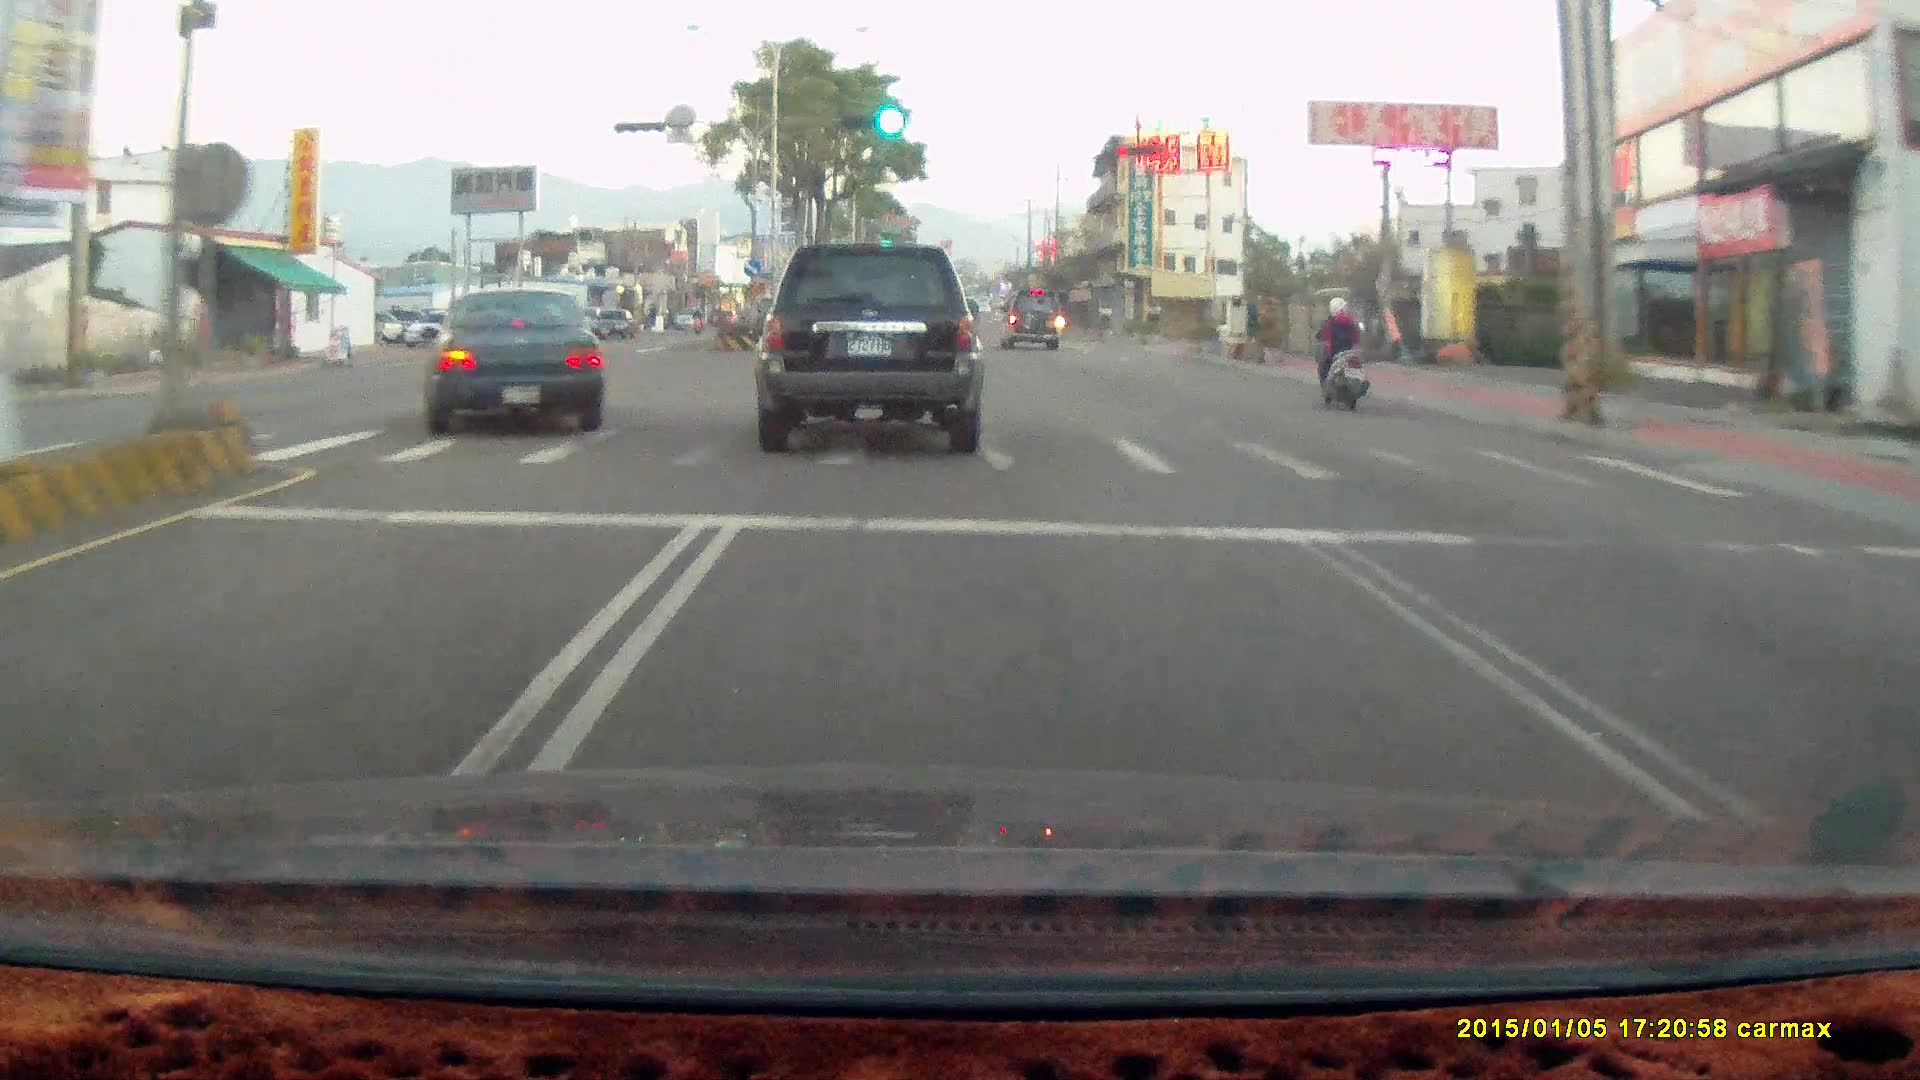rider: (1300, 285, 1381, 420), (1308, 294, 1369, 412)
vehicle: (754, 242, 986, 460), (753, 241, 984, 453), (421, 281, 603, 434), (419, 283, 604, 432), (998, 286, 1066, 352), (997, 279, 1061, 341), (402, 312, 479, 350), (585, 307, 635, 340)
